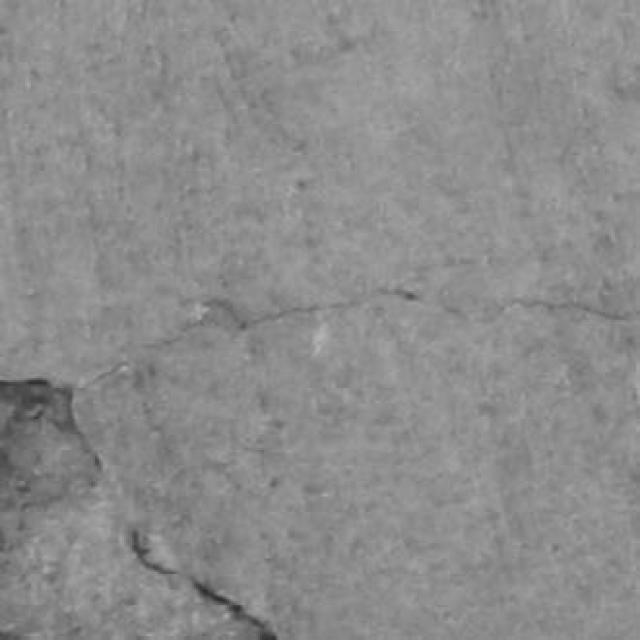crack: (78, 288, 420, 389), (128, 528, 277, 639), (0, 379, 102, 471), (191, 578, 277, 639), (501, 299, 639, 321), (128, 530, 180, 575)
